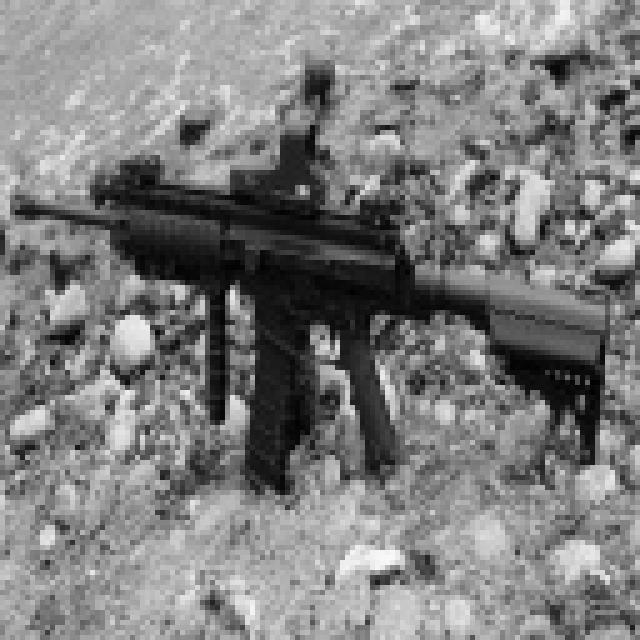Rifle: (0, 92, 640, 521)
